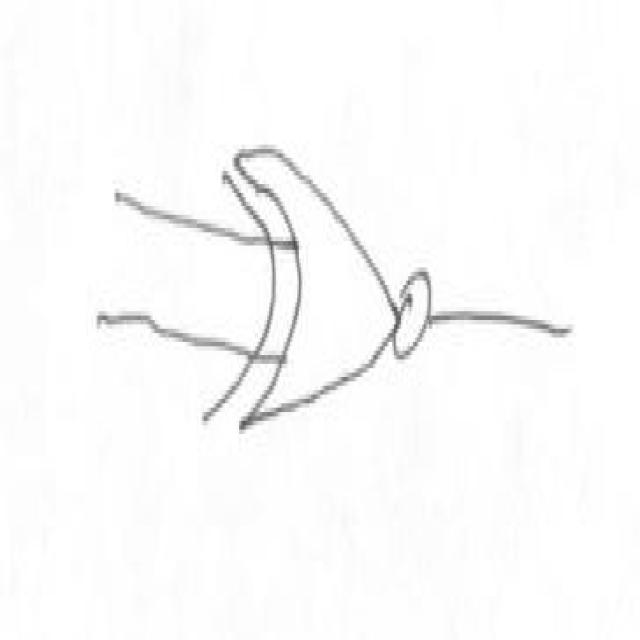XNOR: (208, 107, 454, 459)
